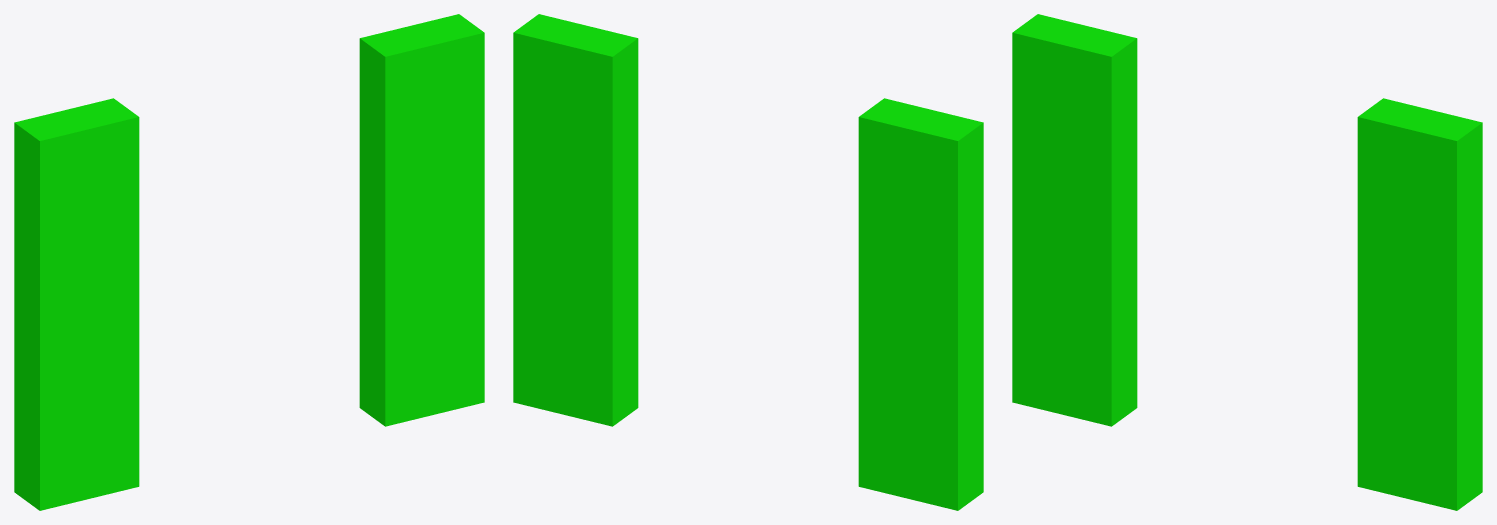
Rendered from Map - Door 1x1 Wizard.fbx.
3 views of the same model, side by side, from view 1: azimuth 30°, elevation 25°; view 2: azimuth 150°, elevation 25°; view 3: azimuth 330°, elevation 25° (orthographic).
Visible parts, largest first — view 1: Cube, Cube__1_; view 2: Cube, Cube__1_; view 3: Cube, Cube__1_.
Boxes of the visible parts, bbox=[...] form: Cube: bbox=[359, 14, 484, 426]; Cube__1_: bbox=[14, 98, 139, 510]; Cube: bbox=[513, 14, 638, 426]; Cube__1_: bbox=[858, 98, 983, 510]; Cube: bbox=[1357, 98, 1482, 510]; Cube__1_: bbox=[1012, 14, 1137, 426].
Size of the model in its own units: 50.34 by 40 by 5.
